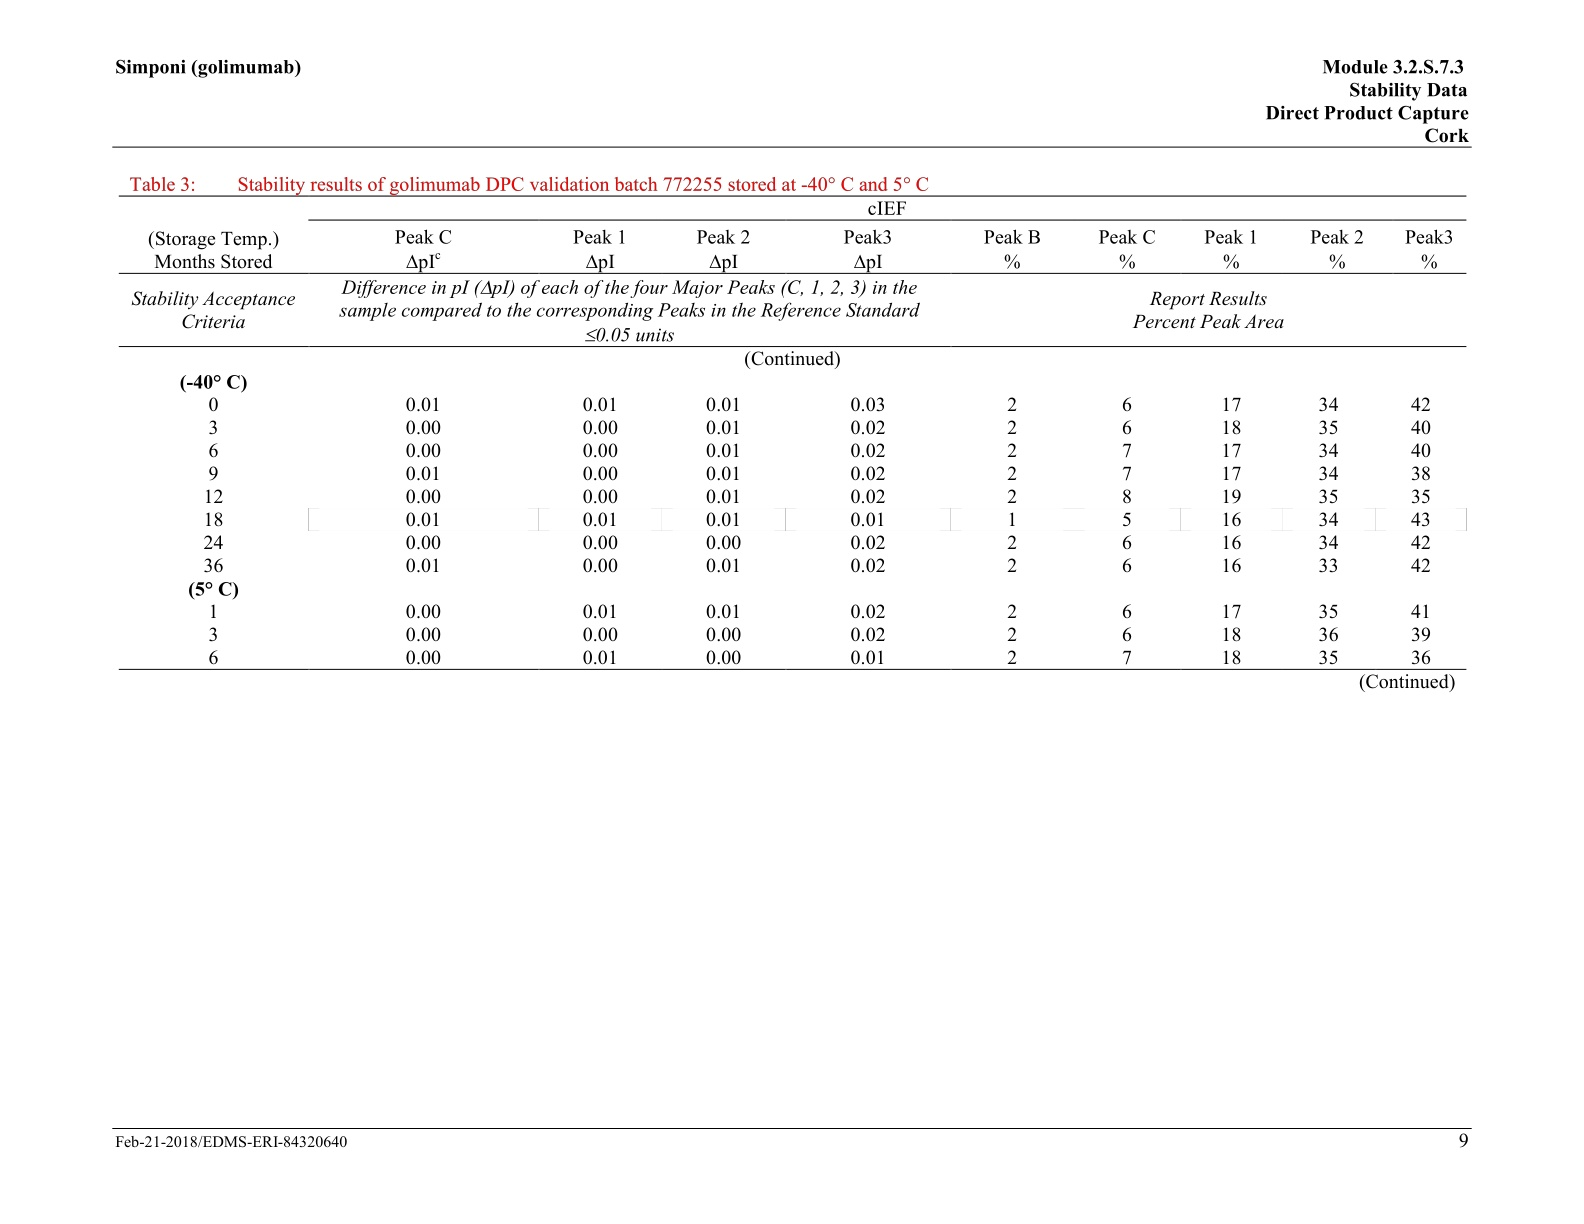partial_lined_merged_cells: (117, 194, 1468, 671)
